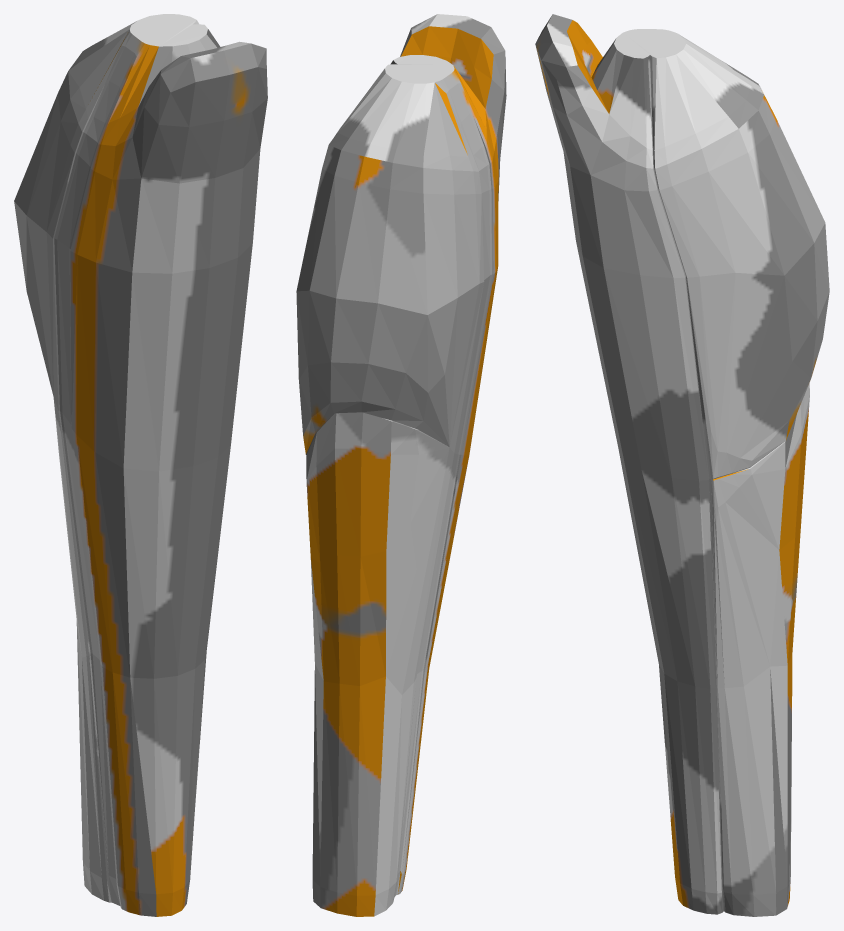
Rendered from RightLowerLeg.obj.
3 renders of one model, left to right at view 1: azimuth 30°, elevation 25°; view 2: azimuth 150°, elevation 25°; view 3: azimuth 270°, elevation 25°, orthographic. The views are drawn at different scales.
Parts seen in each view (by area): view 1: RightLowerLeg_Mesh.040; view 2: RightLowerLeg_Mesh.040; view 3: RightLowerLeg_Mesh.040.
Boxes of the visible parts, x1=… form: RightLowerLeg_Mesh.040: x1=14, y1=14, x2=267, y2=916; RightLowerLeg_Mesh.040: x1=296, y1=14, x2=506, y2=916; RightLowerLeg_Mesh.040: x1=535, y1=14, x2=829, y2=916.
Size of the model in its own units: 0.0914 by 0.4475 by 0.1378.
1 material, 1 textured.
